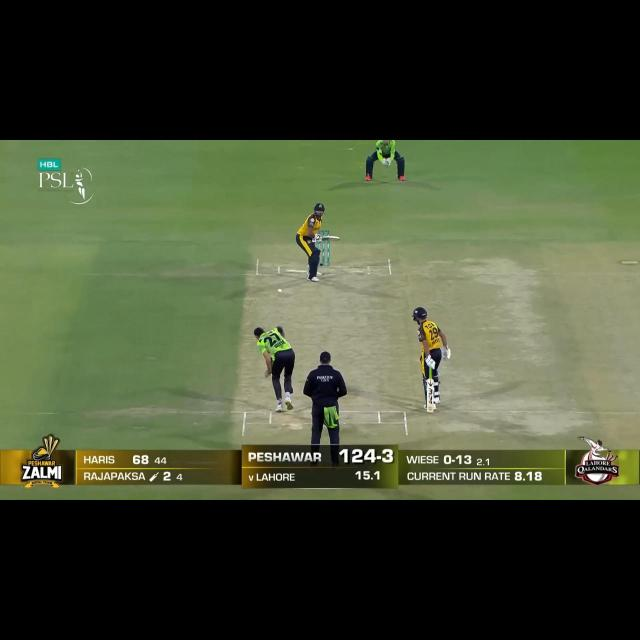bat: (425, 379, 436, 414), (322, 236, 341, 242)
toe: (426, 408, 434, 413), (336, 236, 342, 242)
